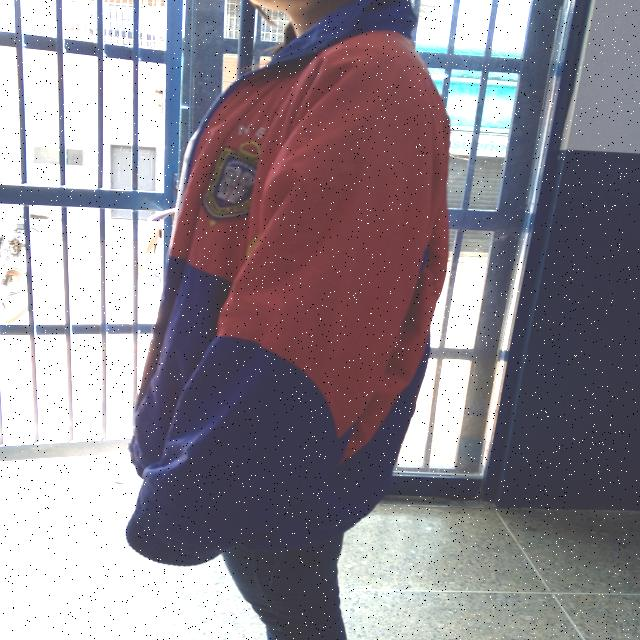chaqueta_unefa: (125, 0, 450, 565)
